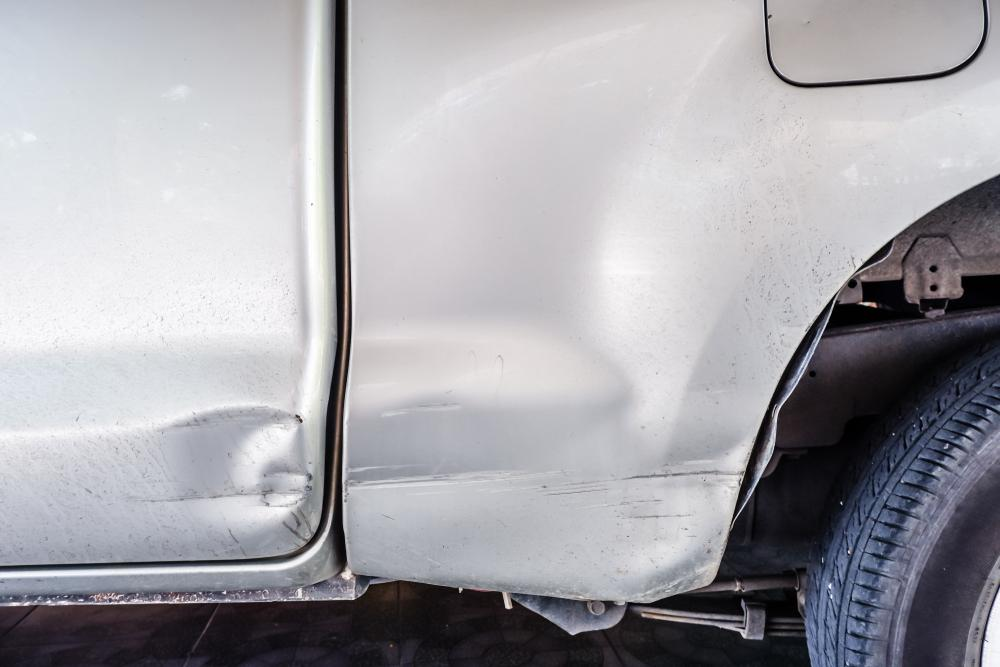dent: (347, 47, 773, 585), (168, 410, 307, 524)
